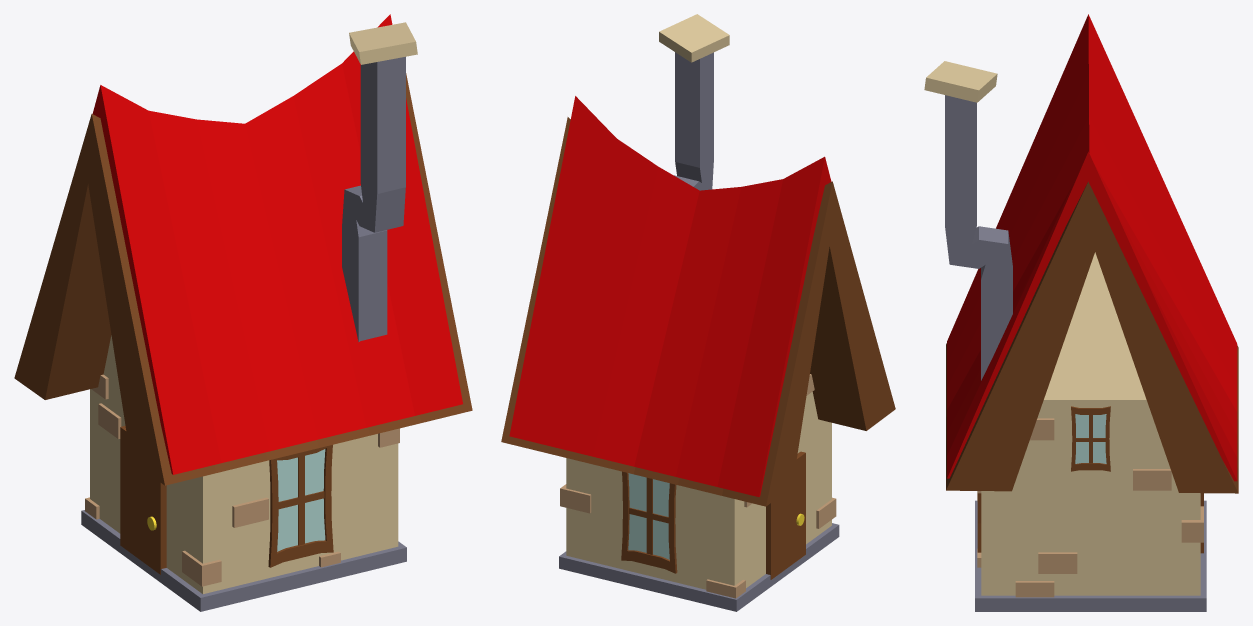
The model's file is HouseRed.fbx.
3 views of the same model, side by side, from view 1: azimuth 30°, elevation 25°; view 2: azimuth 150°, elevation 25°; view 3: azimuth 270°, elevation 25° (orthographic). The views are drawn at different scales.
Parts seen in each view (by area): view 1: Roof, UnderLayer, Base, Pole, BaseConcrete, Cube, Glass.001, frame.001, PoleTop, Cube.005, Cube.009; view 2: Roof, UnderLayer, Base, Pole, BaseConcrete, Cube, Glass.002, PoleTop, frame.002, Cube.013, Cross.004, Cube.007; view 3: Roof, Base, UnderLayer, Pole, BaseConcrete, PoleTop, Glass.004, frame.004, Cube.014, Cube.010, Cube.012, Cube.013 (+1 smaller).
Boxes of the visible parts, x1,y1,x2,y2 form: Roof: (92, 14, 462, 474); UnderLayer: (14, 73, 472, 485); Base: (90, 335, 398, 593); Pole: (342, 56, 405, 341); BaseConcrete: (81, 510, 406, 611); Cube: (120, 425, 166, 574); Glass.001: (277, 449, 325, 551); frame.001: (268, 445, 333, 567); PoleTop: (349, 22, 417, 64); Cube.005: (182, 550, 221, 586); Cube.009: (232, 497, 268, 527); Roof: (509, 96, 831, 496); UnderLayer: (501, 117, 895, 506); Base: (566, 392, 831, 589); Pole: (674, 52, 713, 190); BaseConcrete: (559, 523, 839, 611); Cube: (766, 451, 805, 579); Glass.002: (628, 473, 669, 559); PoleTop: (659, 14, 729, 62); frame.002: (621, 471, 677, 573); Cube.013: (560, 484, 591, 513); Cross.004: (646, 477, 652, 554); Cube.007: (706, 579, 745, 598); Roof: (947, 14, 1237, 481); Base: (981, 252, 1200, 595); UnderLayer: (946, 181, 1238, 493); Pole: (945, 95, 1012, 380); BaseConcrete: (975, 500, 1206, 611); PoleTop: (924, 61, 997, 102); Glass.004: (1075, 414, 1106, 463); frame.004: (1071, 406, 1110, 471); Cube.014: (1038, 552, 1077, 573); Cube.010: (1133, 469, 1171, 490); Cube.012: (1015, 581, 1054, 597); Cube.013: (1181, 506, 1203, 542).
Size of the model in its own units: 315 by 530 by 287.
